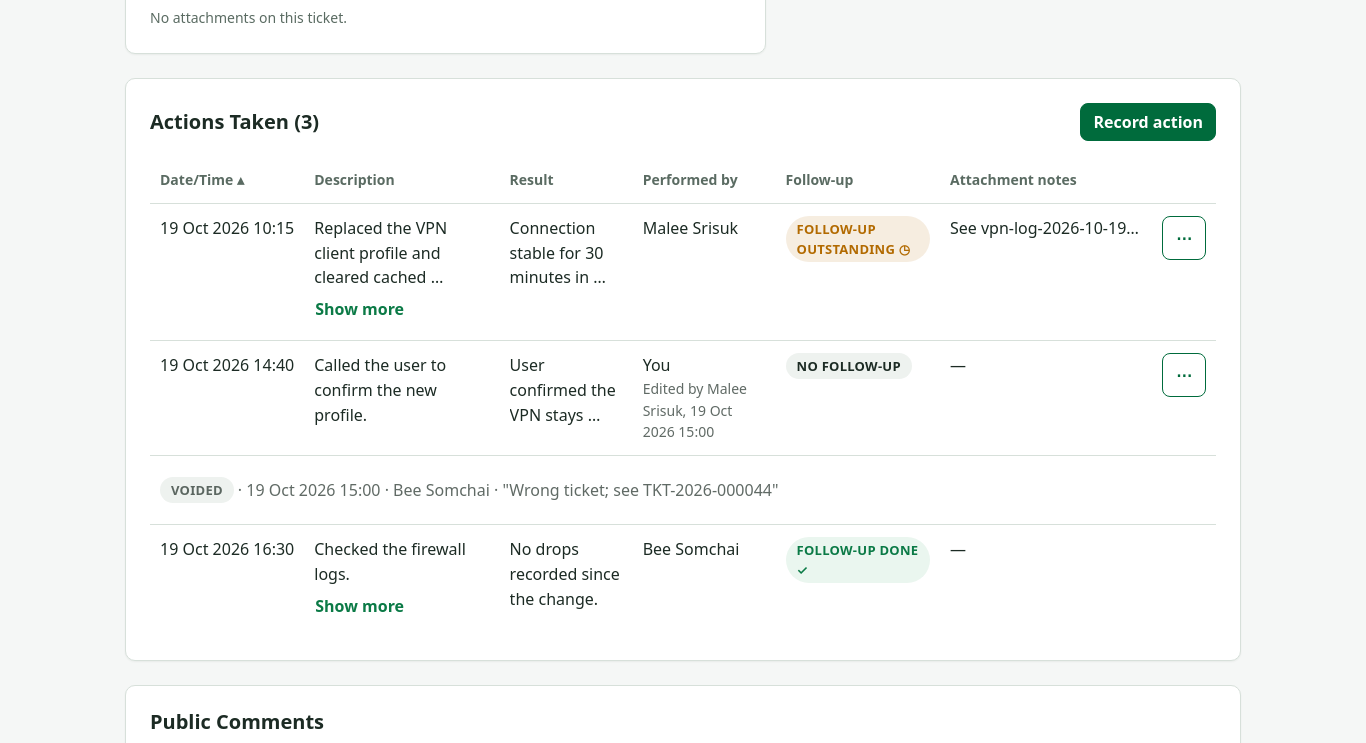
Test case: UI-13 Performed by and Created are read-only (AC-50, BR-03) › shows the original performer and Created on edit, outside the tab order
(page scrolled)
Check: the text "Called the user to confirm the new profile." is shown, box [314,354,450,426]
Click the button named "Actions for action recorded 19 Oct 2026 14:40" at (1184, 375), box [1162,353,1206,397]
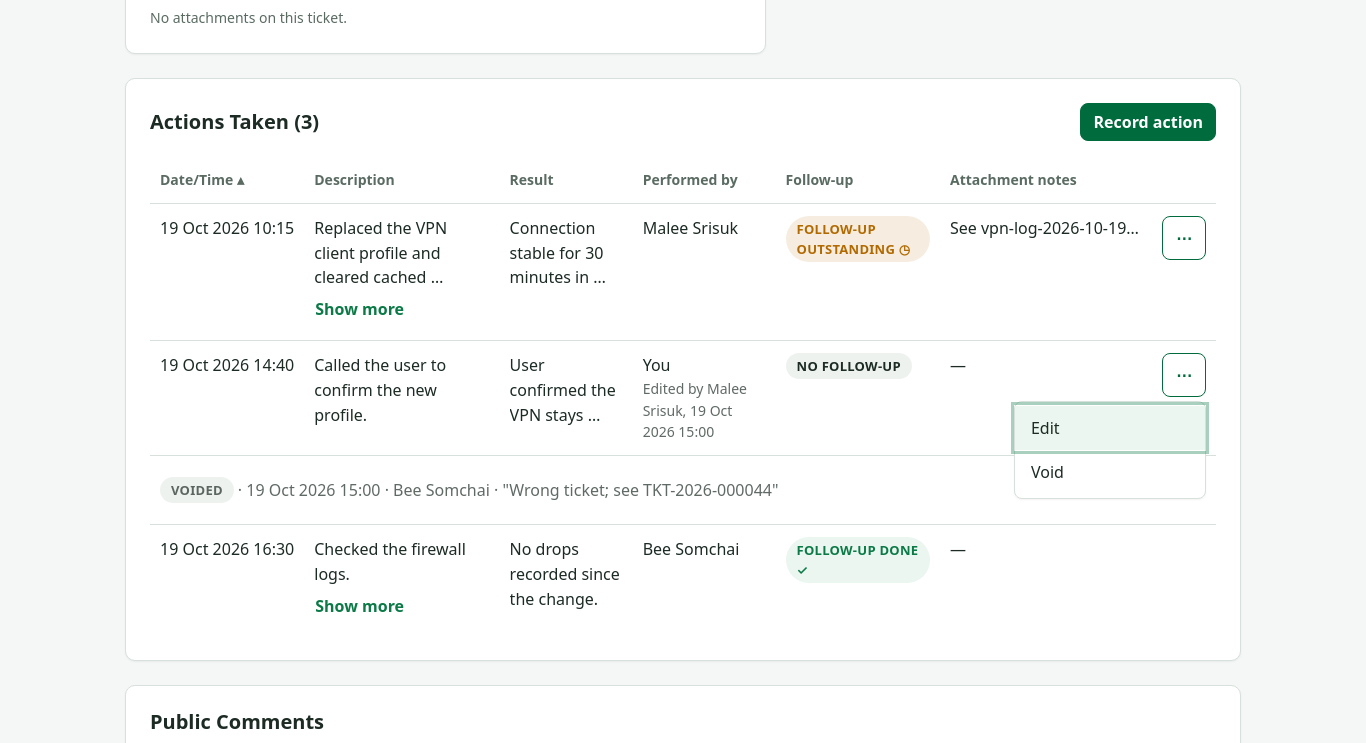
Click the menu item "Edit" at (1110, 428), box [1015,406,1205,450]
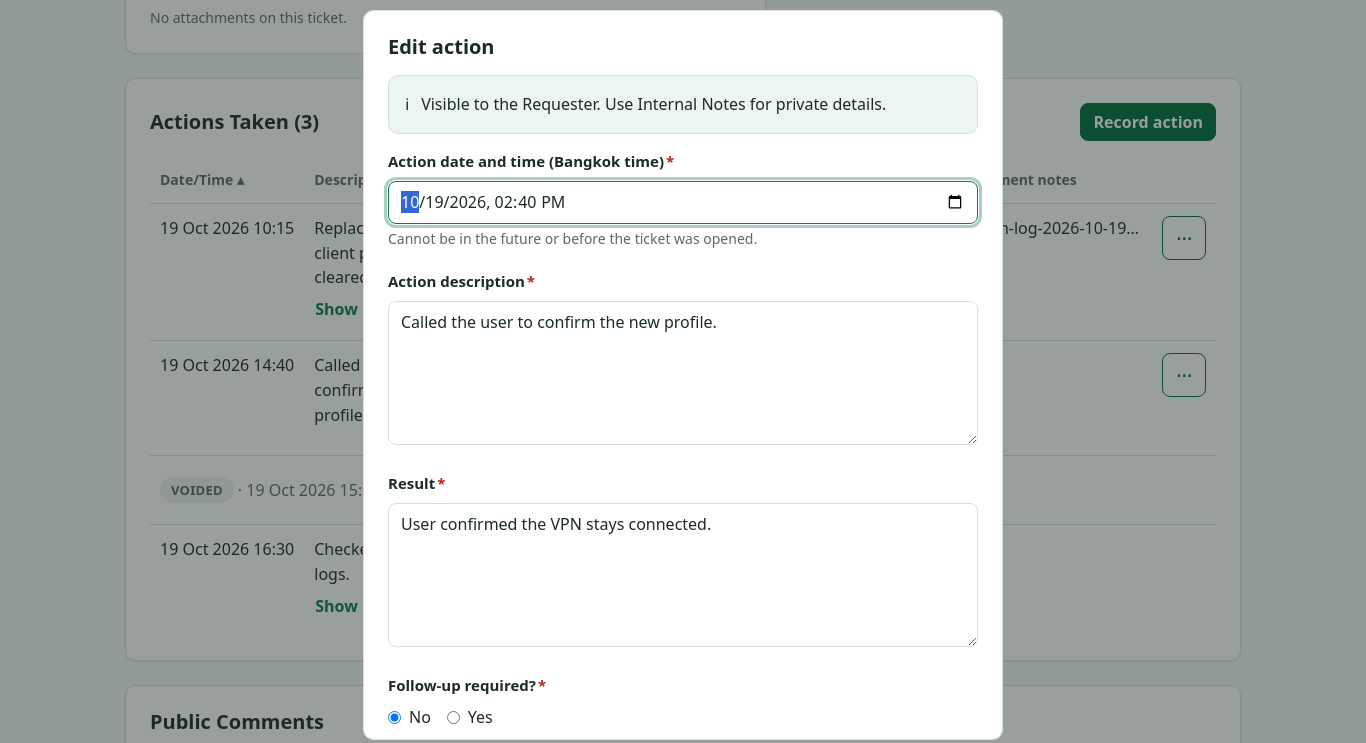
Check: the text box labelled "Result" holds "User confirmed the VPN stays connected.", box [388,503,978,647]
